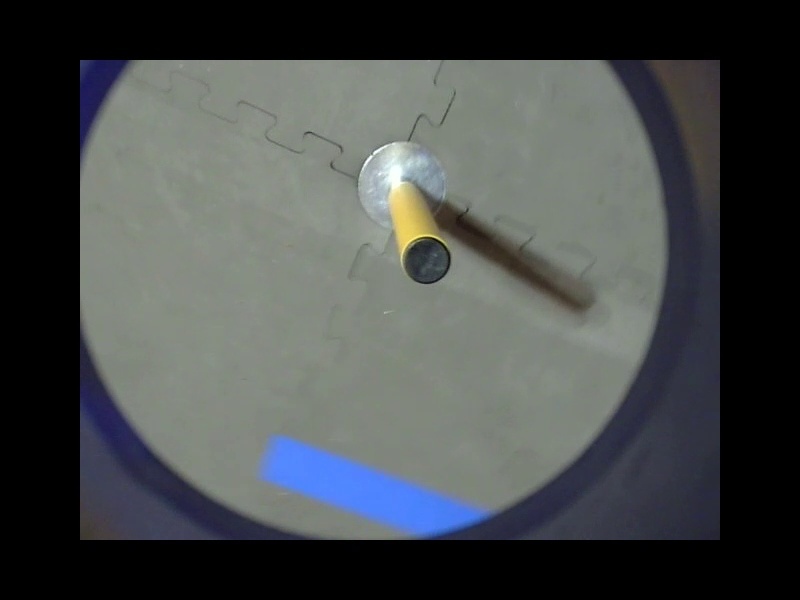tip: (398, 229, 455, 287)
